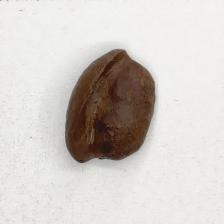NG: (79, 48, 155, 162)
